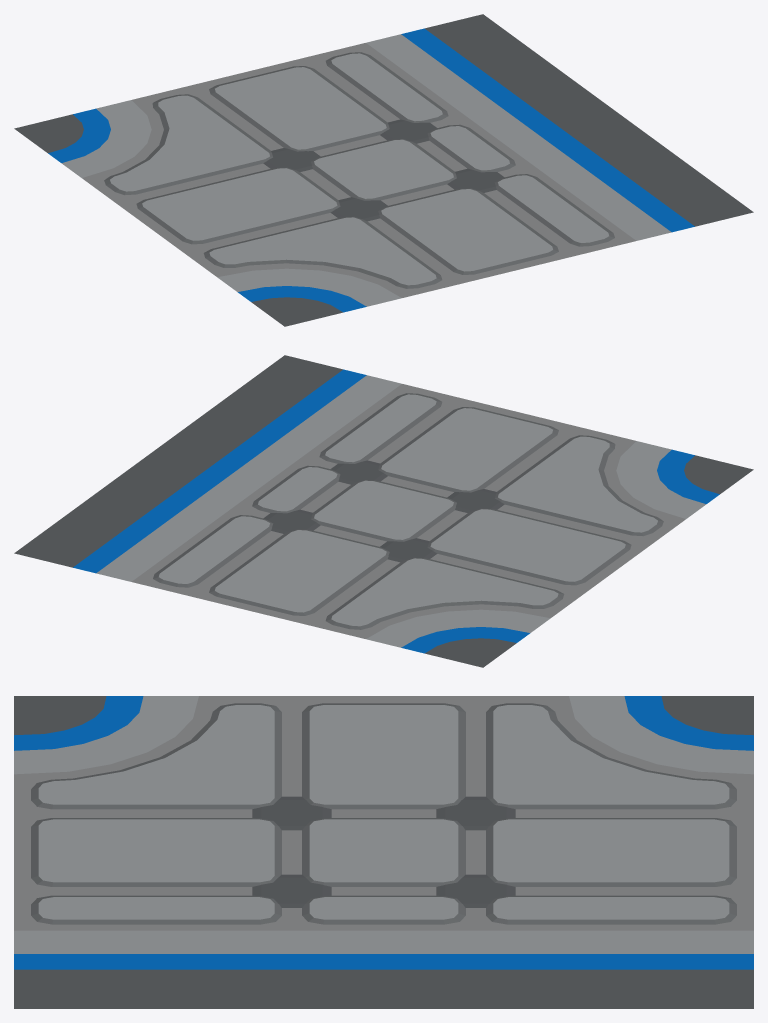
The model's file is Floor_type_B_020.fbx.
3 renders of one model, top to bottom at view 1: azimuth 30°, elevation 25°; view 2: azimuth 150°, elevation 25°; view 3: azimuth 270°, elevation 25°, orthographic. The views are drawn at different scales.
Visible parts, largest first — view 1: Floor_type_B_020; view 2: Floor_type_B_020; view 3: Floor_type_B_020.
Boxes of the visible parts, x1=… form: Floor_type_B_020: x1=14, y1=14, x2=753, y2=326; Floor_type_B_020: x1=14, y1=355, x2=753, y2=667; Floor_type_B_020: x1=14, y1=696, x2=753, y2=1008.
Bounding box in the file's own units: 400 × 400 × 1.34.
